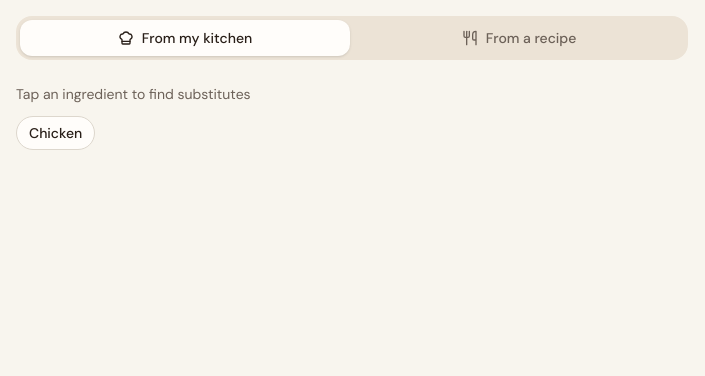
Scenario: SubstitutesScreen — Parse button disabled state › parse button is enabled when text is within the limit
Click the button "From a recipe" at (519, 38), box [354,20,684,56]
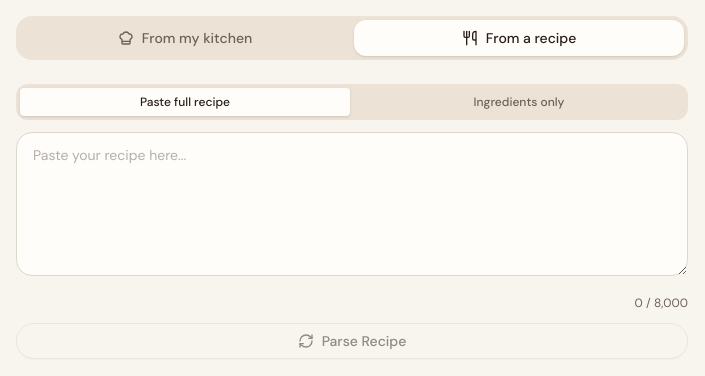
Type "some recipe text" into the text box at (352, 204), box [16,132,688,276]
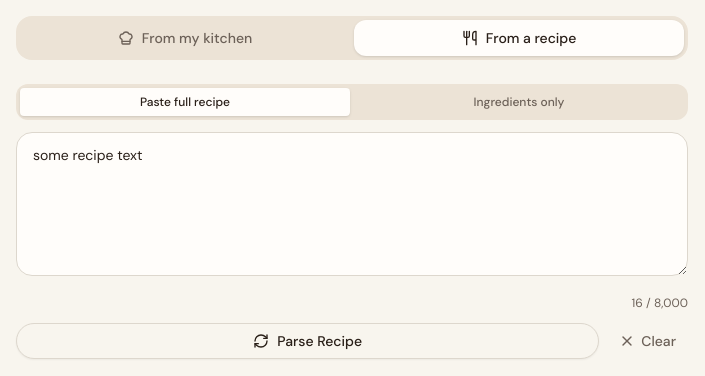
Check: the button "Parse Recipe" is enabled, box [16,323,599,359]
